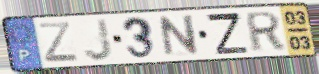3: (121, 15, 160, 62)
J: (82, 17, 115, 63)
N: (157, 13, 201, 59)
R: (245, 10, 286, 54)
Z: (204, 12, 251, 56), (36, 20, 81, 64)
